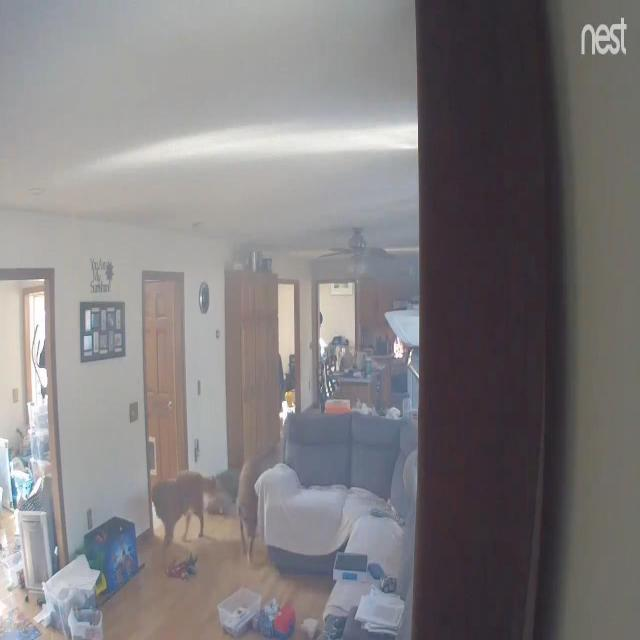fire: (394, 333, 404, 359)
